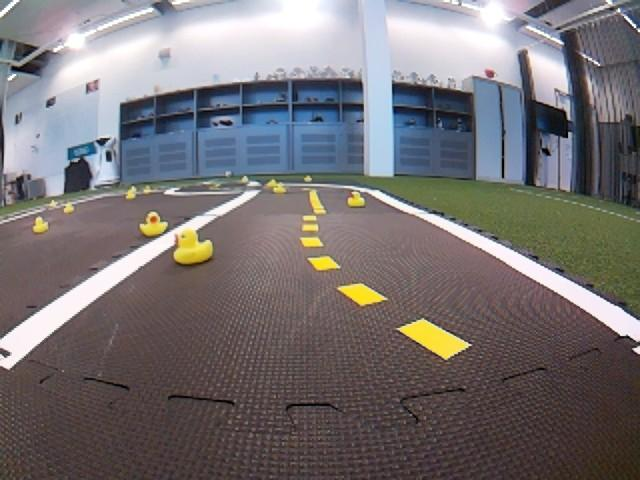Duckies: (174, 230, 213, 264), (141, 213, 168, 236), (346, 191, 365, 207), (33, 217, 48, 233), (273, 184, 286, 193), (64, 205, 74, 213), (144, 185, 152, 194), (126, 192, 135, 199), (49, 200, 58, 207), (128, 186, 137, 193), (268, 179, 276, 186), (304, 176, 312, 182), (241, 176, 248, 182)
